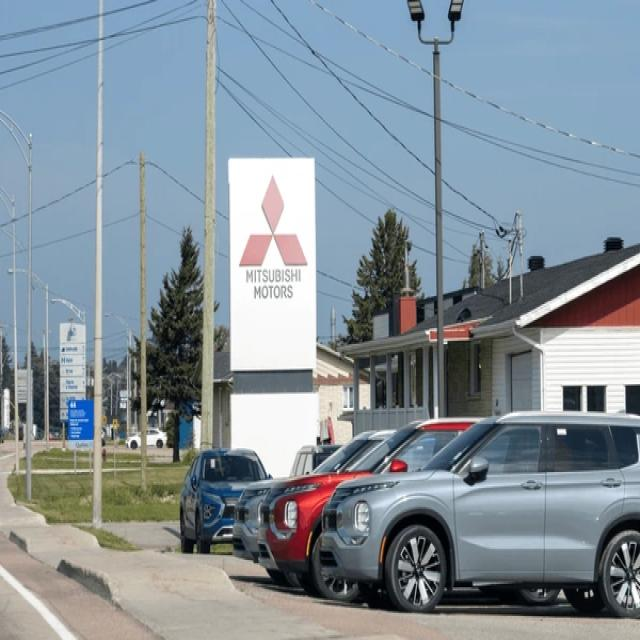mitsubishi: (233, 177, 312, 269)
